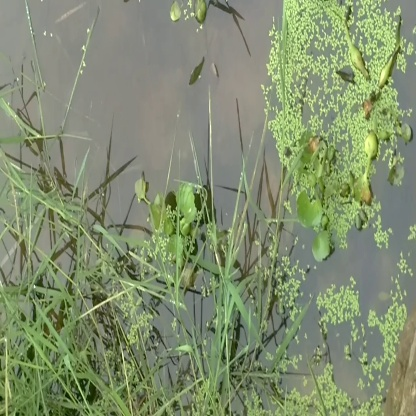grass: (330, 42, 401, 117)
